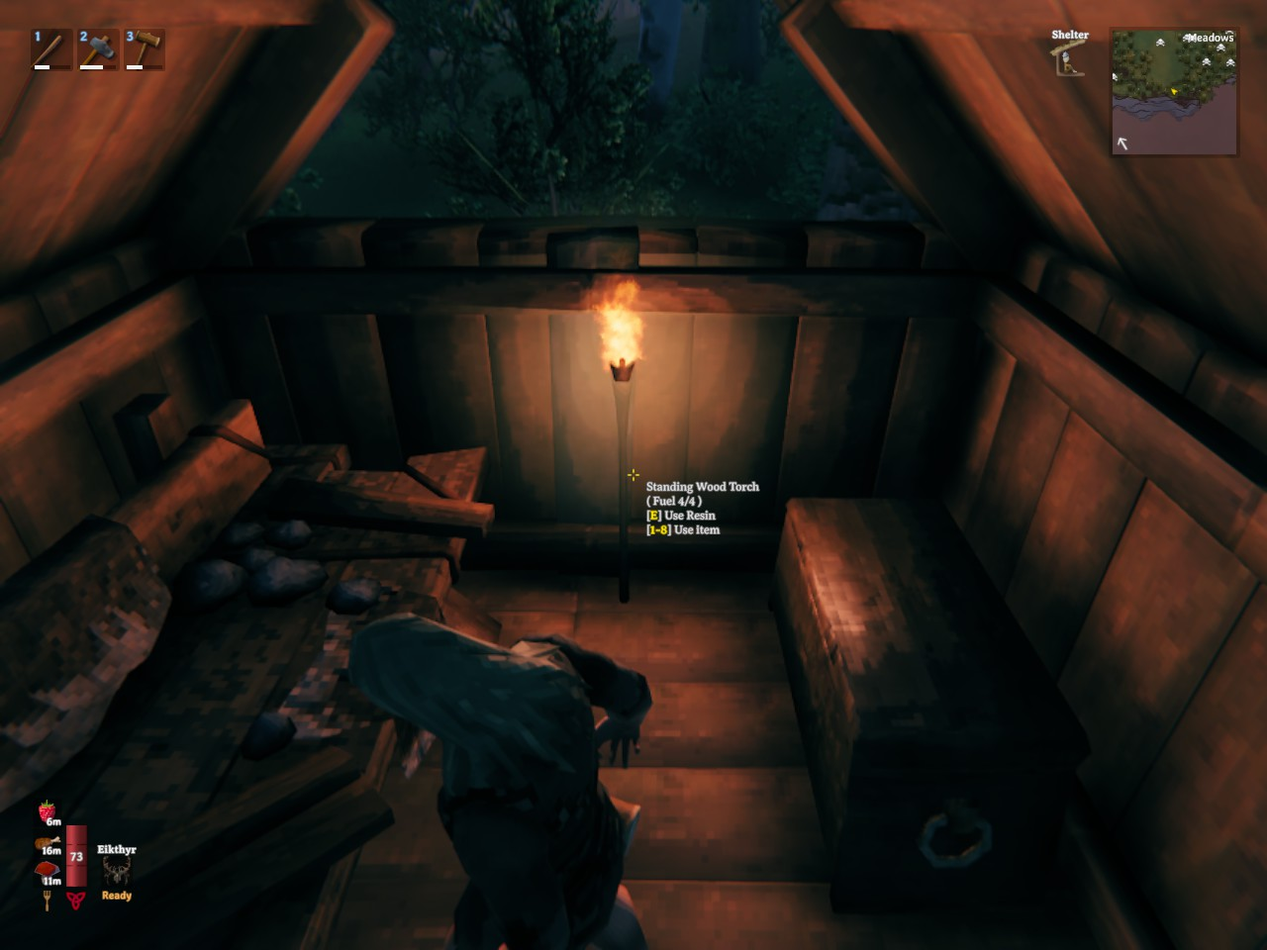Chest: (765, 501, 1094, 909)
Food Indicator: (36, 797, 63, 891)
Health Bar: (63, 820, 90, 891)
Hotbar: (25, 21, 398, 78)
Status Indicator: (1036, 21, 1106, 87)
Torch: (598, 310, 643, 604)
Workbench: (0, 398, 490, 949)
